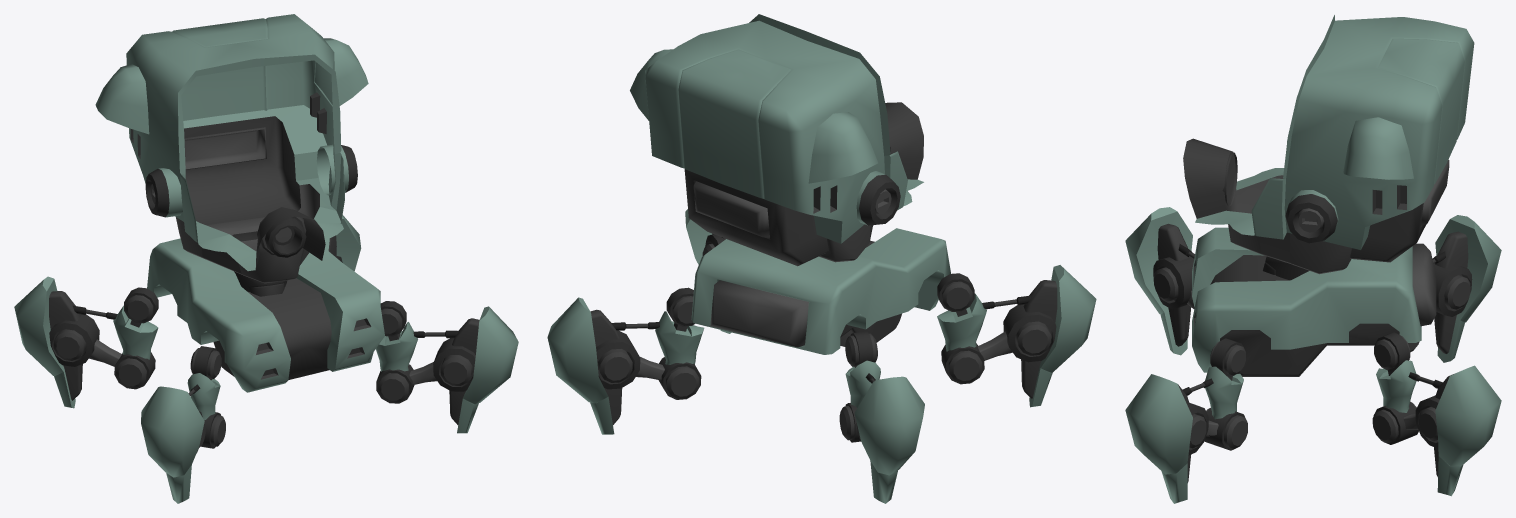
File: 4legMech-1.fbx
The picture shows the model from 3 angles, left to right: view 1: azimuth 30°, elevation 25°; view 2: azimuth 150°, elevation 25°; view 3: azimuth 270°, elevation 25°; orthographic projection. The views are drawn at different scales.
Visible parts, largest first — view 1: Cube, Cube.001, Cube.003, Cube.006; view 2: Cube, Cube.001, Cube.006, Cube.003; view 3: Cube, Cube.001, Cube.006, Cube.003.
Boxes of the visible parts, box(x1,y1,x2,y2) form: Cube: box(95, 14, 368, 296); Cube.001: box(147, 238, 384, 392); Cube.003: box(141, 301, 518, 503); Cube.006: box(14, 215, 361, 408); Cube: box(630, 14, 923, 266); Cube.001: box(691, 228, 950, 354); Cube.006: box(547, 287, 924, 503); Cube.003: box(685, 209, 1096, 407); Cube: box(1183, 15, 1474, 280); Cube.001: box(1192, 227, 1436, 376); Cube.006: box(1372, 215, 1501, 496); Cube.003: box(1125, 207, 1247, 503).
Size of the model in its own units: 2.88 by 2.65 by 2.33.
